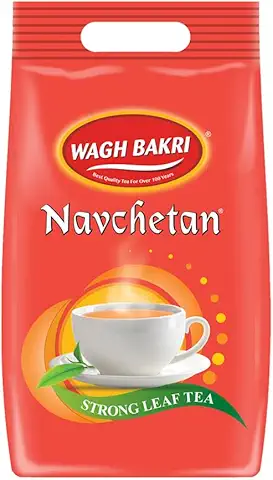Tea: (7, 2, 267, 480)
